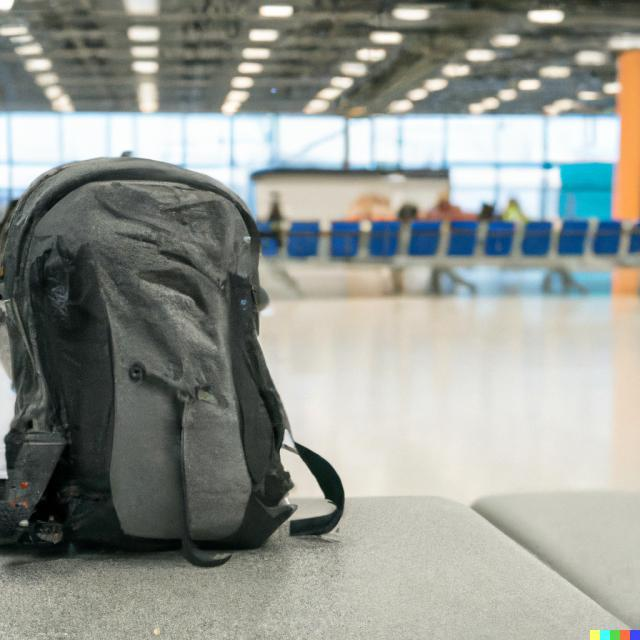Backpacks: (0, 151, 294, 568)
